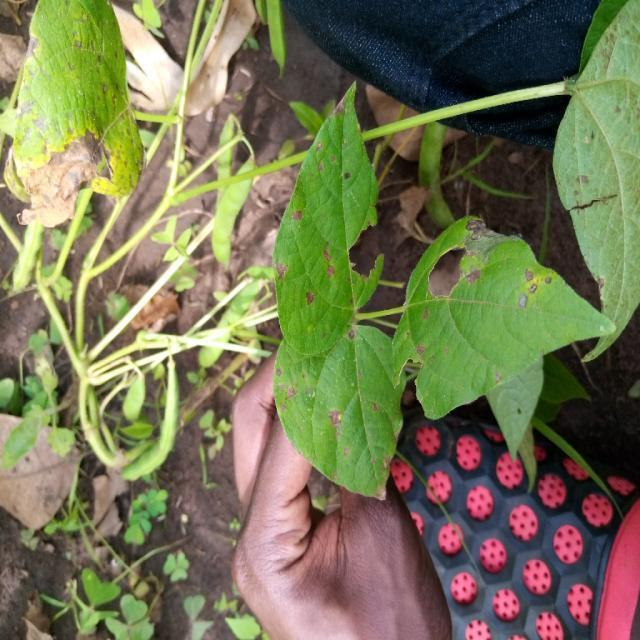mozaik: (266, 110, 548, 493), (0, 0, 154, 225), (543, 32, 640, 326)
